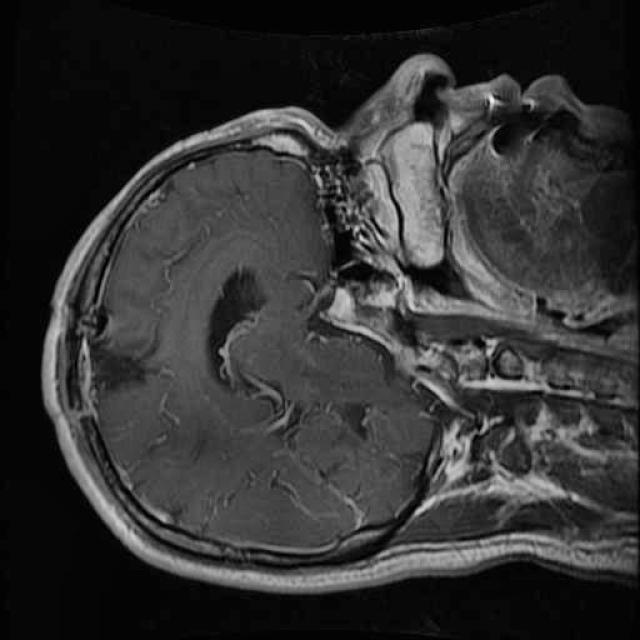Non-Tumor: (73, 310, 190, 418)
